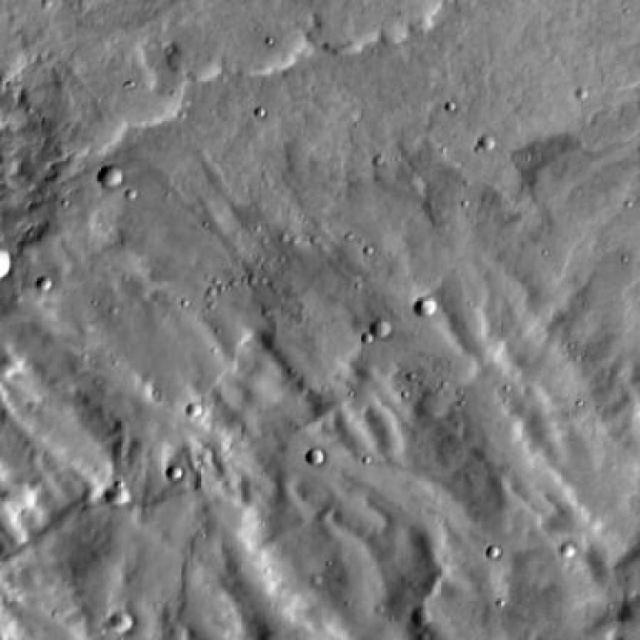crater: (98, 162, 128, 188), (108, 487, 134, 510), (373, 320, 396, 340), (112, 614, 134, 634), (415, 302, 436, 320), (481, 138, 499, 154), (308, 450, 327, 465)
